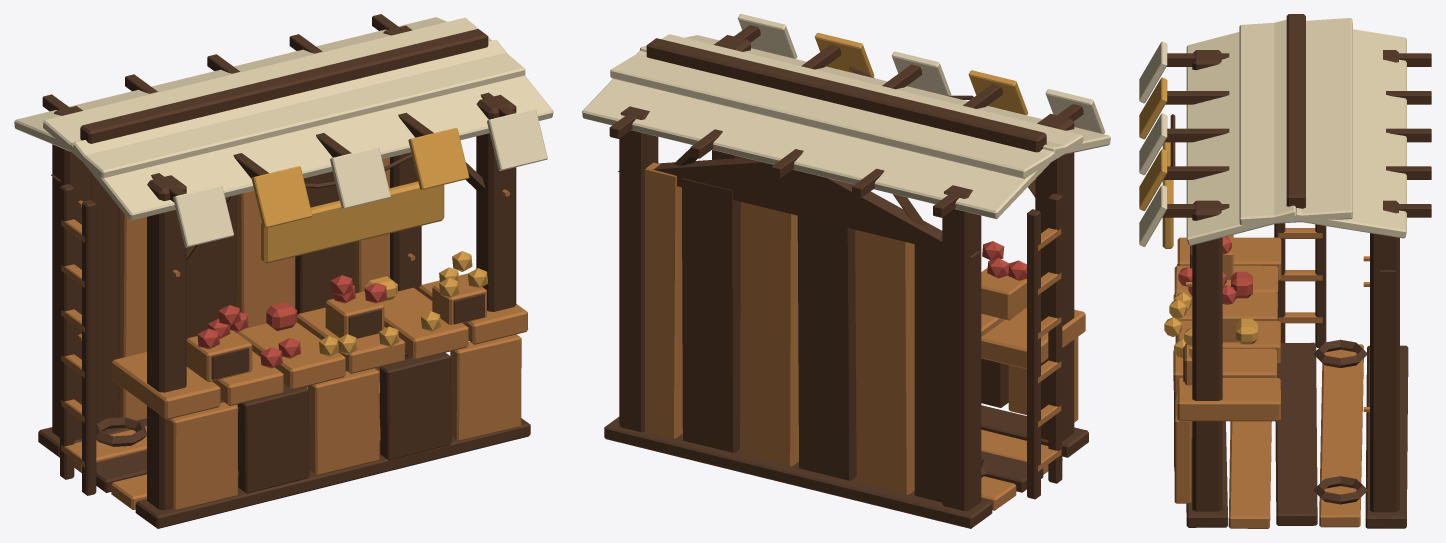
Rendered from prop_produce_stall_a.glb.
3 views of the same model, side by side, from view 1: azimuth 30°, elevation 25°; view 2: azimuth 150°, elevation 25°; view 3: azimuth 270°, elevation 25° (orthographic). The views are drawn at different scales.
Visible parts, largest first — view 1: produce_stall_back_gable, produce_stall_back_wall_001, produce_stall_canopy_flap_0, produce_stall_apple_00; view 2: produce_stall_back_gable, produce_stall_back_wall_001, produce_stall_canopy_flap_0, produce_stall_apple_00; view 3: produce_stall_back_gable, produce_stall_canopy_flap_0, produce_stall_back_wall_001, produce_stall_apple_00.
Part boxes in pixels (x1,y1,x2,y2): produce_stall_back_gable: (38, 14, 530, 528); produce_stall_back_wall_001: (61, 157, 527, 510); produce_stall_canopy_flap_0: (14, 17, 553, 247); produce_stall_apple_00: (197, 127, 488, 368); produce_stall_back_gable: (604, 25, 1088, 528); produce_stall_back_wall_001: (645, 162, 1085, 510); produce_stall_canopy_flap_0: (582, 14, 1110, 219); produce_stall_apple_00: (815, 32, 1028, 280); produce_stall_back_gable: (1162, 14, 1431, 528); produce_stall_canopy_flap_0: (1139, 18, 1406, 246); produce_stall_back_wall_001: (1173, 228, 1369, 528); produce_stall_apple_00: (1139, 77, 1257, 358).
Bounding box in the file's own units: 3.35 × 2.75 × 2.14.
